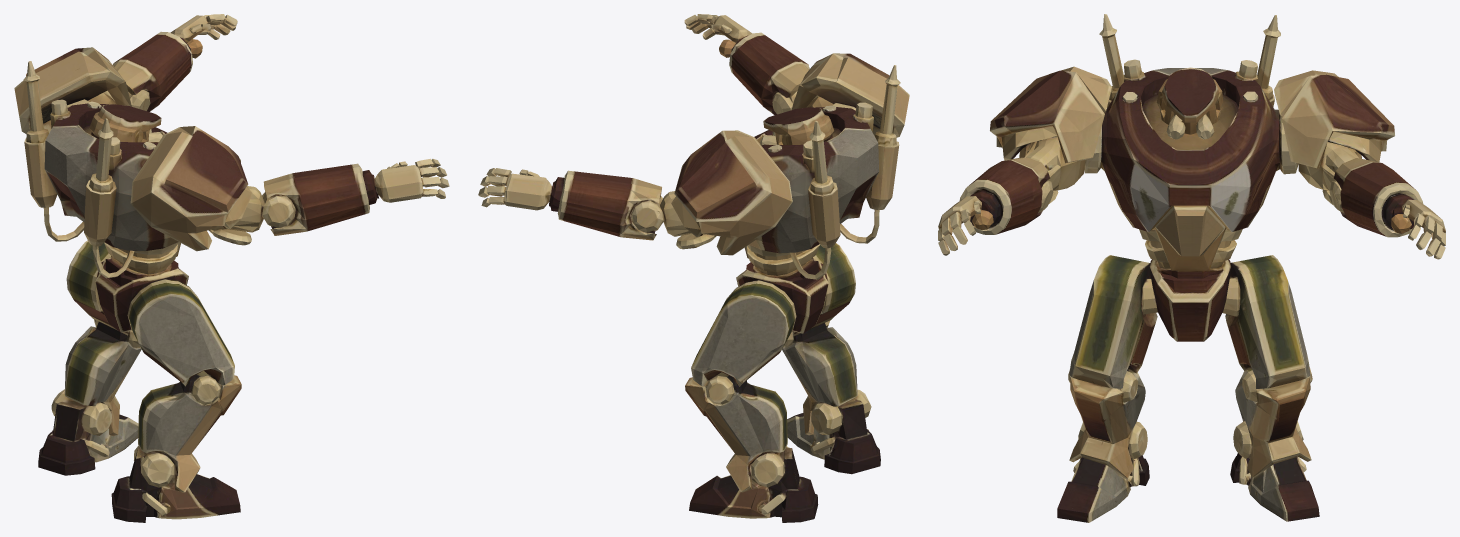
File: grunt.glb
3 renders of one model, left to right at view 1: azimuth 30°, elevation 25°; view 2: azimuth 150°, elevation 25°; view 3: azimuth 270°, elevation 25°, orthographic. The views are drawn at different scales.
Visible parts, largest first — view 1: tripo_node_3effc213-68e0-4dcf-9d24-5824018b350e; view 2: tripo_node_3effc213-68e0-4dcf-9d24-5824018b350e; view 3: tripo_node_3effc213-68e0-4dcf-9d24-5824018b350e.
Part boxes in pixels (x1,y1,x2,y2): tripo_node_3effc213-68e0-4dcf-9d24-5824018b350e: (14,14,449,522); tripo_node_3effc213-68e0-4dcf-9d24-5824018b350e: (478,14,909,522); tripo_node_3effc213-68e0-4dcf-9d24-5824018b350e: (938,14,1445,522).
Bounding box in the file's own units: 0.7129 × 0.9629 × 0.998.
1 material, 1 textured.
